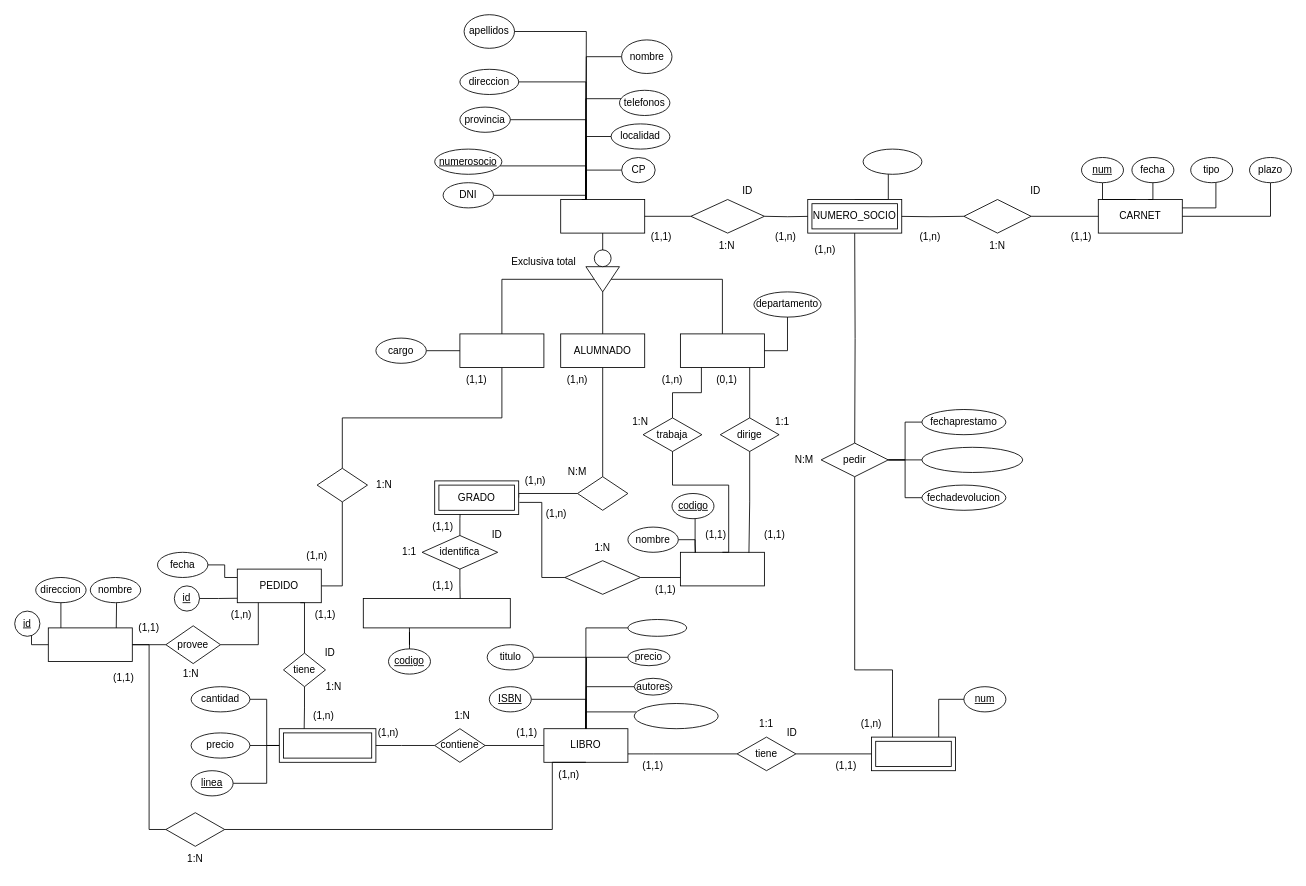
Image size: 1306x886. Some labels were removed from this diagram. Each missing label, with the centre of its shape:
"adjudica" belongs at pixel 727 216.
"CODIGOS_UNIVERSITARIOS" belongs at pixel 436 613.
"edita" belongs at pixel 195 829.
"EDITORIAL" belongs at pixel 89 644.
"EJEMPLAR" belongs at pixel 913 753.
"emite" belongs at pixel 997 216.
"estudia" belongs at pixel 602 493.
"FACULTAD" belongs at pixel 722 568.
"fechaalta" belongs at pixel 892 161.
"fechadevolucionmax" belongs at pixel 972 459.
"fechapublicacion" belongs at pixel 675 716.
"LINEAS_PEDIDO" belongs at pixel 327 745.
"PERSONAL" belongs at pixel 501 350.
"pertenece" belongs at pixel 602 577.
"prestable" belongs at pixel 657 627.
"PROFESORADO" belongs at pixel 722 350.
"realiza" belongs at pixel 342 484.
"SOCIO" belongs at pixel 602 216.
